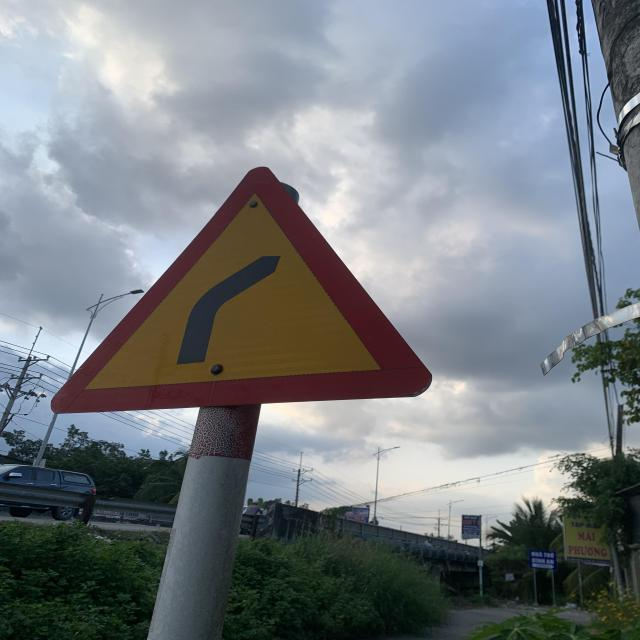Duong_Nguoi_Di_Bo_Cat_Ngang: (49, 169, 432, 416)
